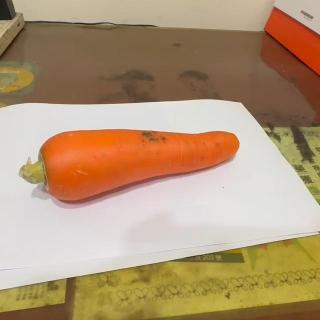carrot: (17, 127, 240, 205)
